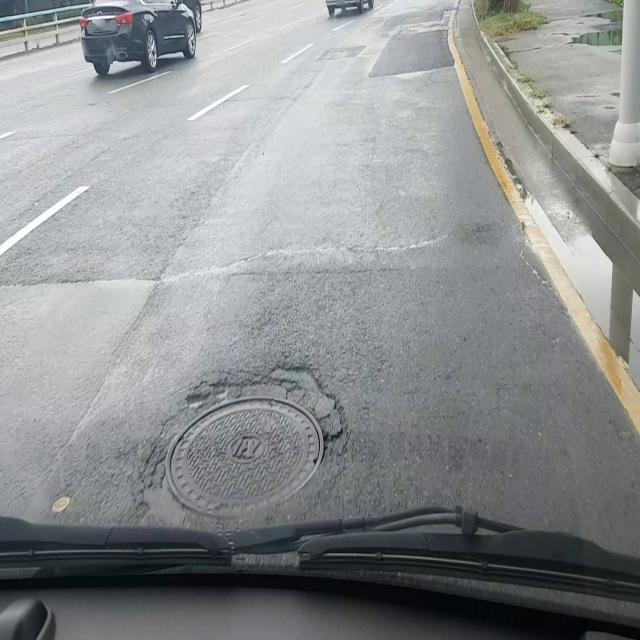Pothole: (160, 362, 347, 519)
